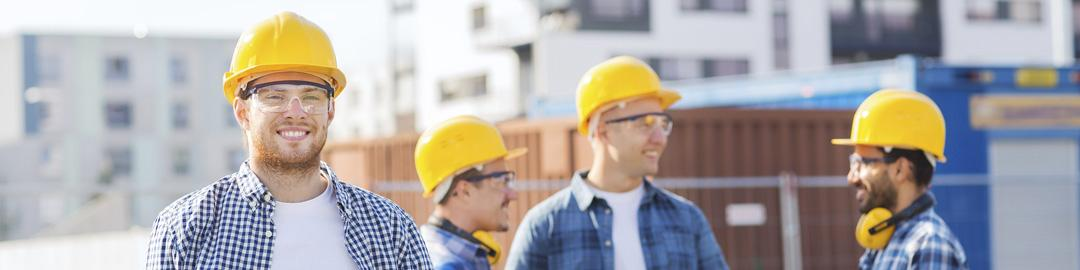helmet: (220, 10, 353, 111), (414, 116, 529, 200), (834, 89, 952, 164), (575, 56, 685, 136)
